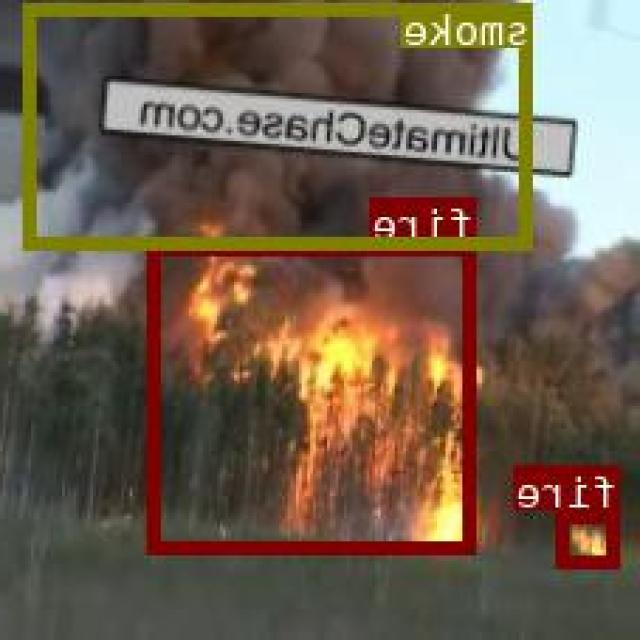fire: (151, 242, 479, 550), (561, 509, 620, 566)
smoke: (26, 2, 533, 248)
